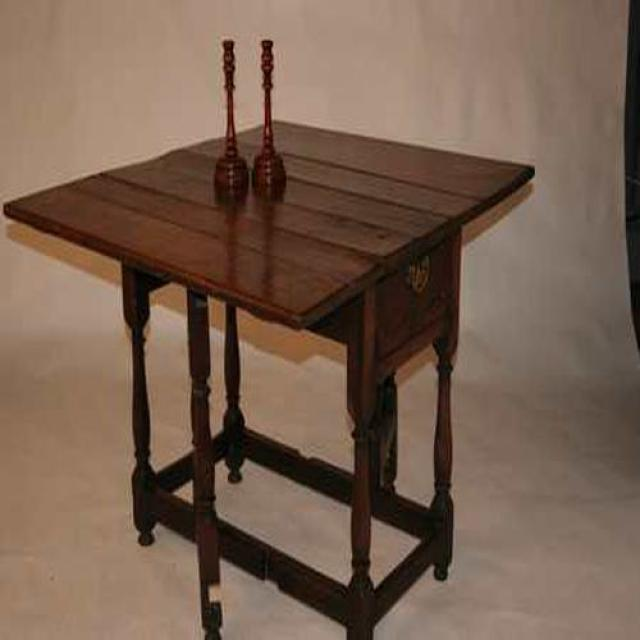table: (4, 120, 536, 640)
